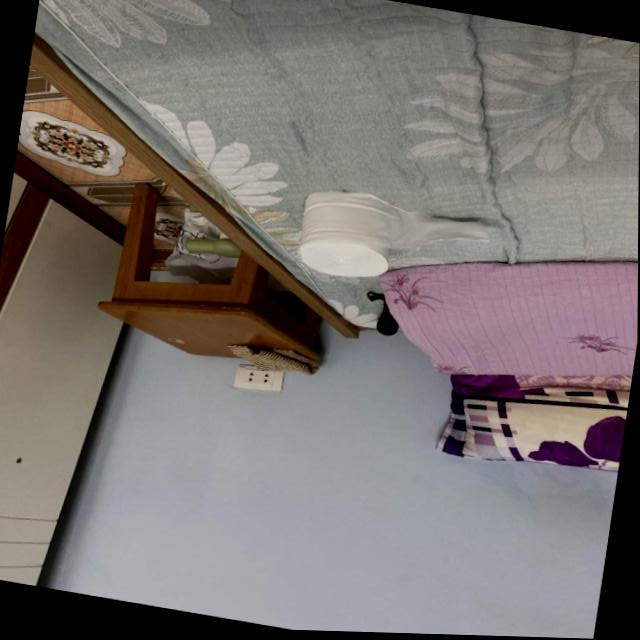outlet: (233, 361, 286, 395)
